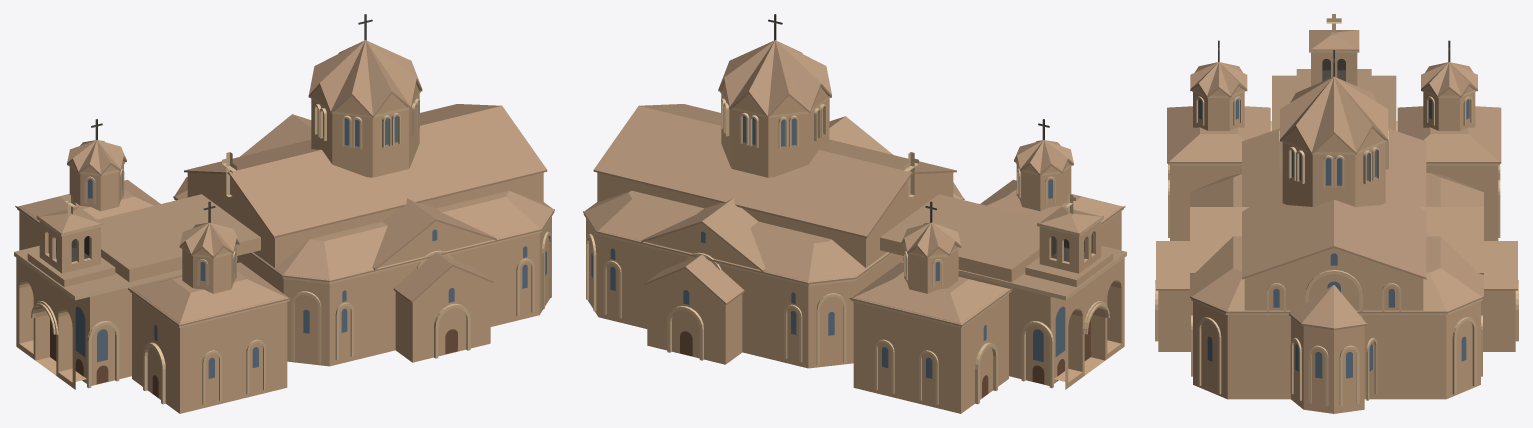
Rendered from yerevan-st-gregory-cathedral.detail.glb.
3 views of the same model, side by side, from view 1: azimuth 30°, elevation 25°; view 2: azimuth 150°, elevation 25°; view 3: azimuth 270°, elevation 25° (orthographic). The views are drawn at different scales.
Parts seen in each view (by area): view 1: Saint Gregory the Illuminator Cathedral; view 2: Saint Gregory the Illuminator Cathedral; view 3: Saint Gregory the Illuminator Cathedral.
Boxes of the visible parts, box(x1,y1,x2,y2) form: Saint Gregory the Illuminator Cathedral: box(14, 14, 554, 413); Saint Gregory the Illuminator Cathedral: box(583, 14, 1126, 413); Saint Gregory the Illuminator Cathedral: box(1155, 14, 1518, 413).
Size of the model in its own units: 100 by 54 by 63.12.
